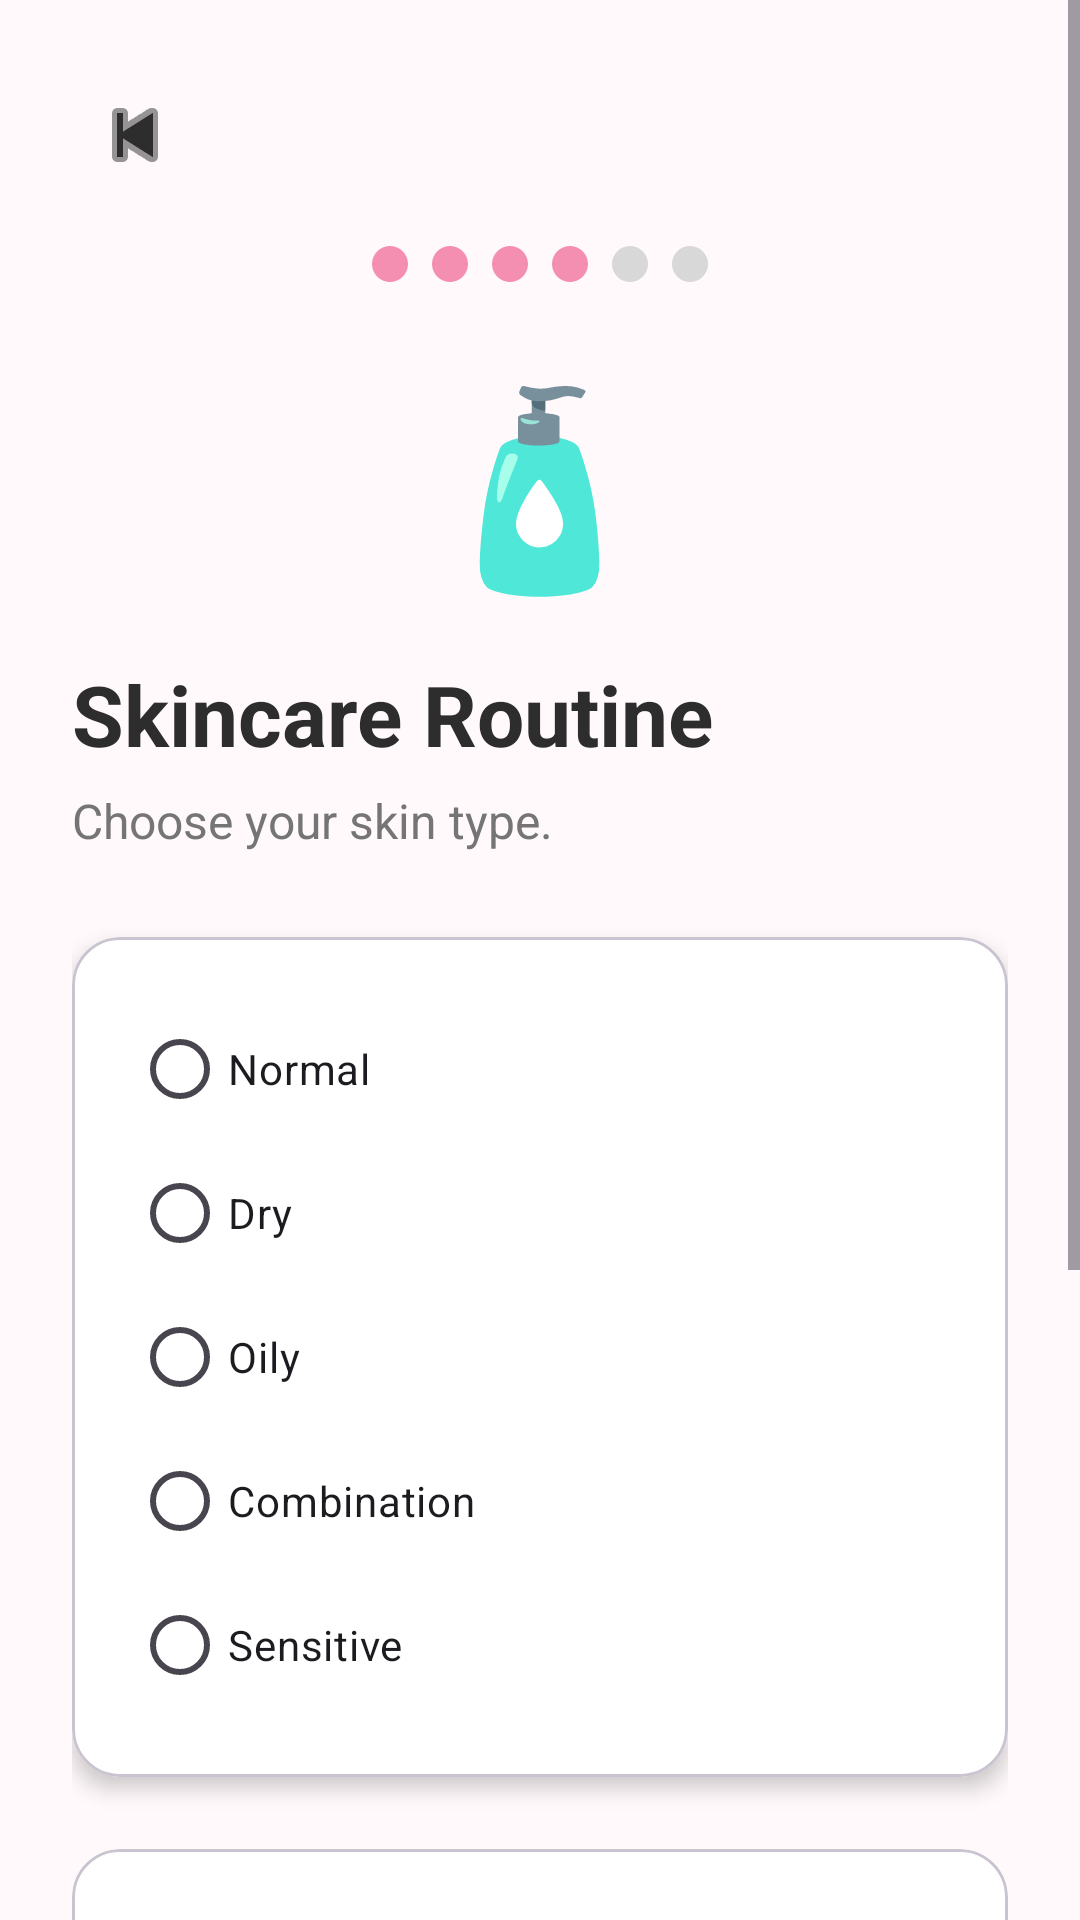

Point at icon controls on the screen. Image size 1080 × 1920, points as (x,y).
Back: (135,135)
